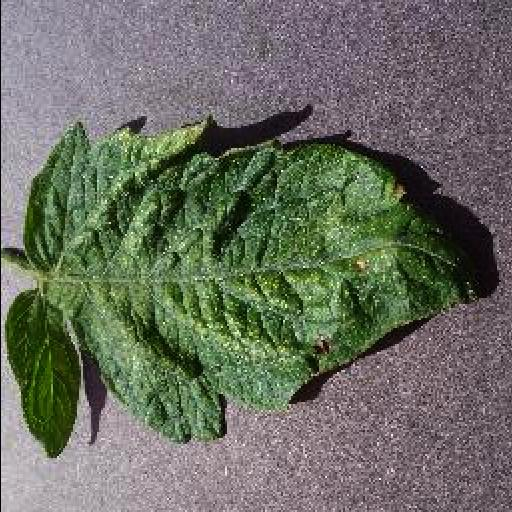disease_tomato: (4, 116, 484, 460)
